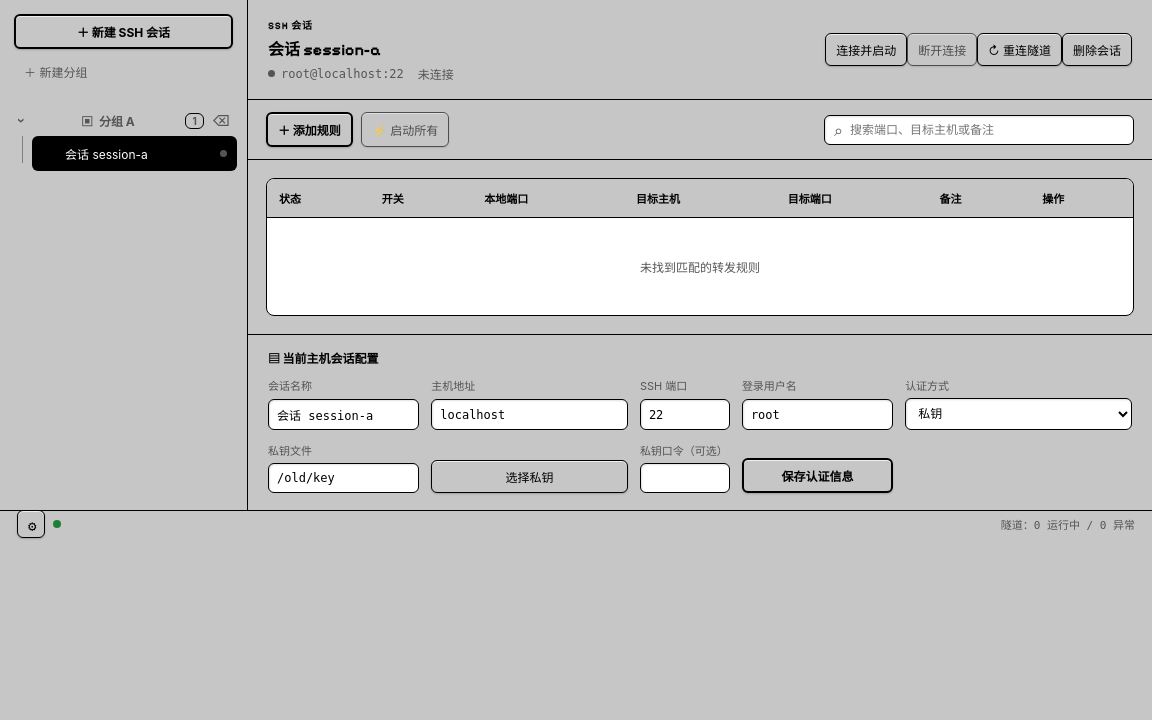
Test: App › blocks authentication saving until a pending private-key selection is persisted
Type "key passphrase" into the password field named "私钥口令（可选）" at [685, 478], box [640,463,730,493]
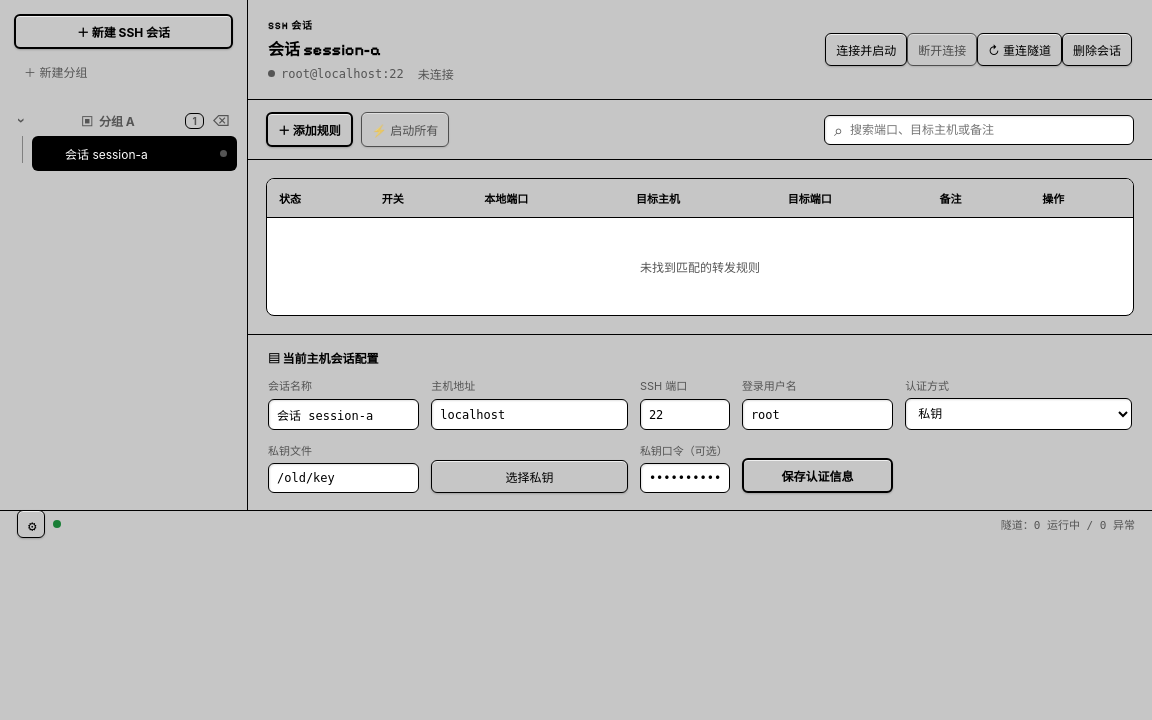
Click the button with test id "choose-private-key" at [530, 476], box [431,460,628,493]
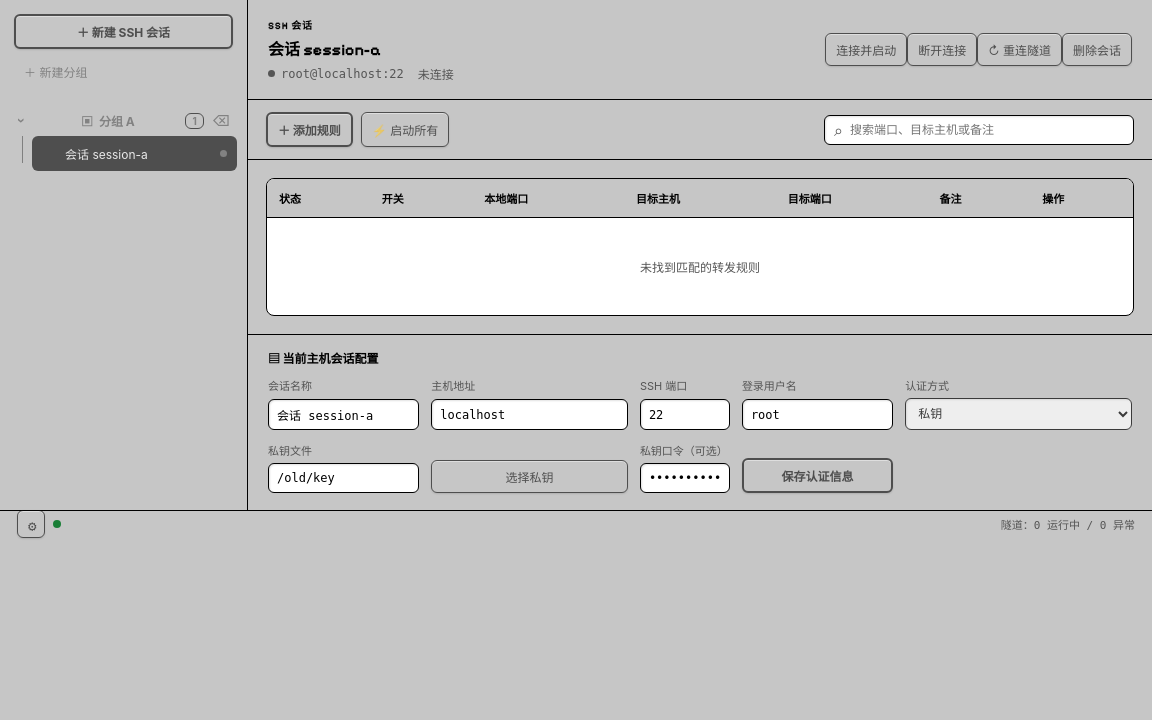
Expected: the button with test id "save-authentication" is disabled
Click the button with test id "save-authentication" at [818, 476], box [742,458,893,493]
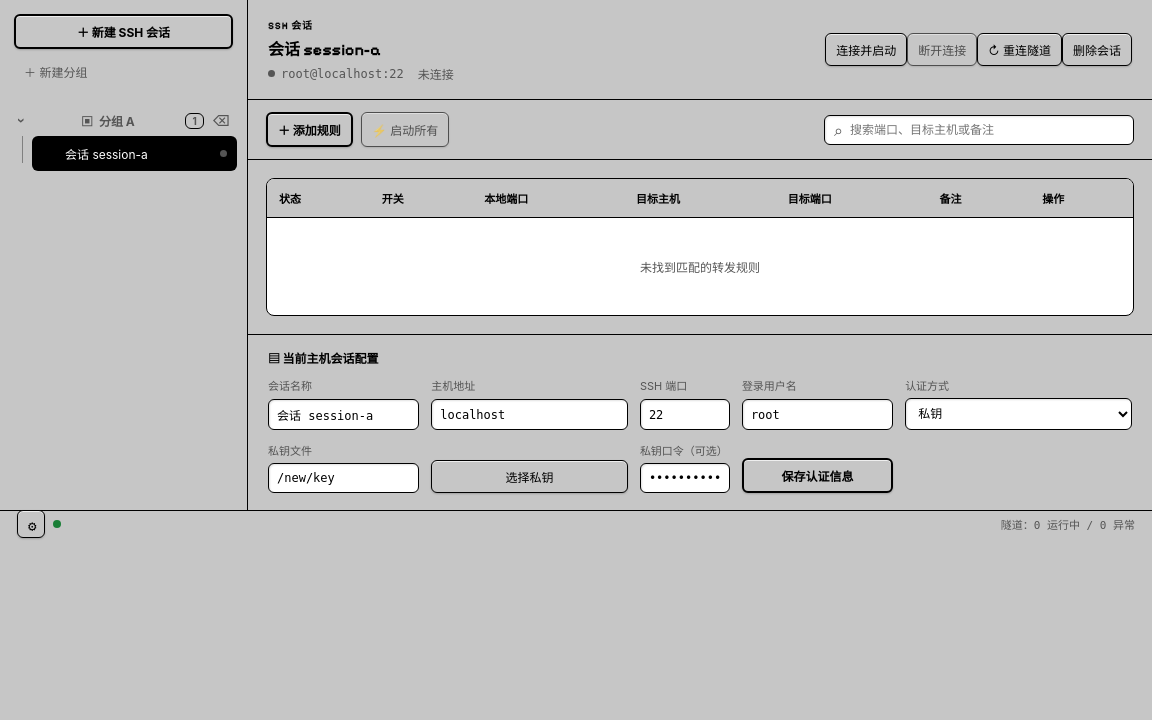
Expected: the field named "私钥文件" holds "/new/key", [268,463,419,493]
